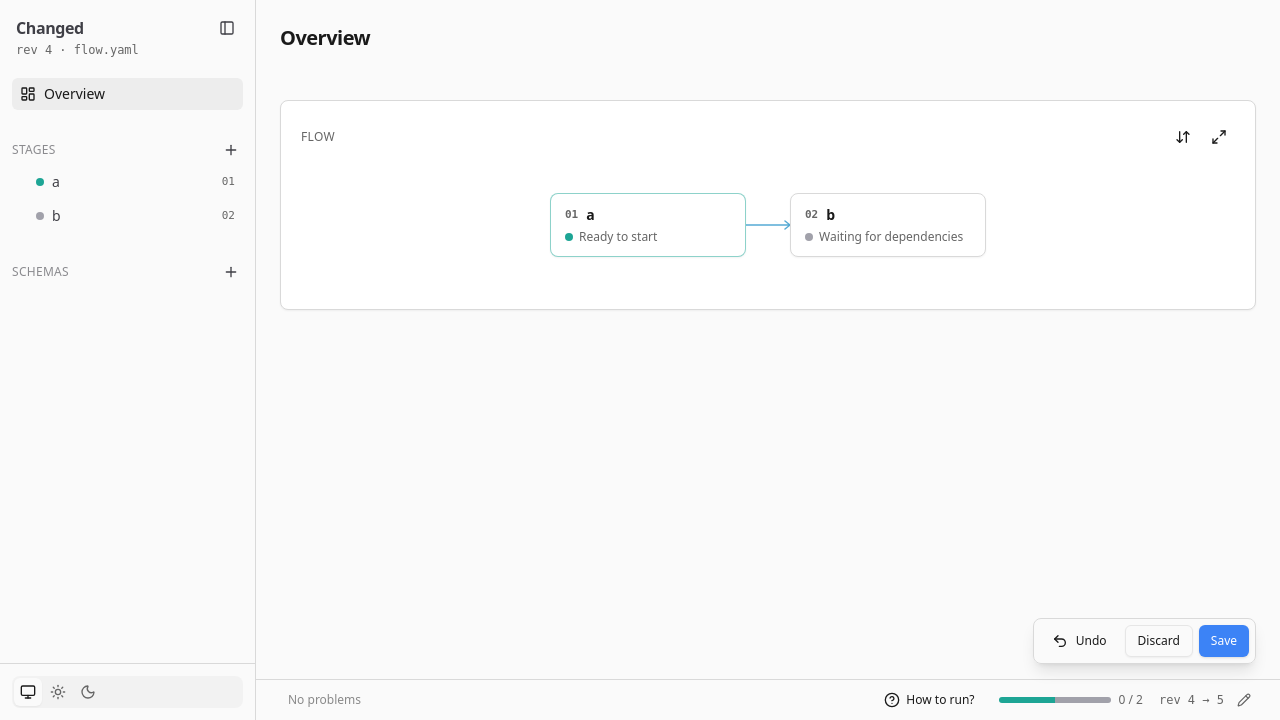
save bar › discard_needs_a_second_click_and_restores_the_baseline
Click the button "Discard" at (1159, 641), box [1125, 625, 1193, 657]
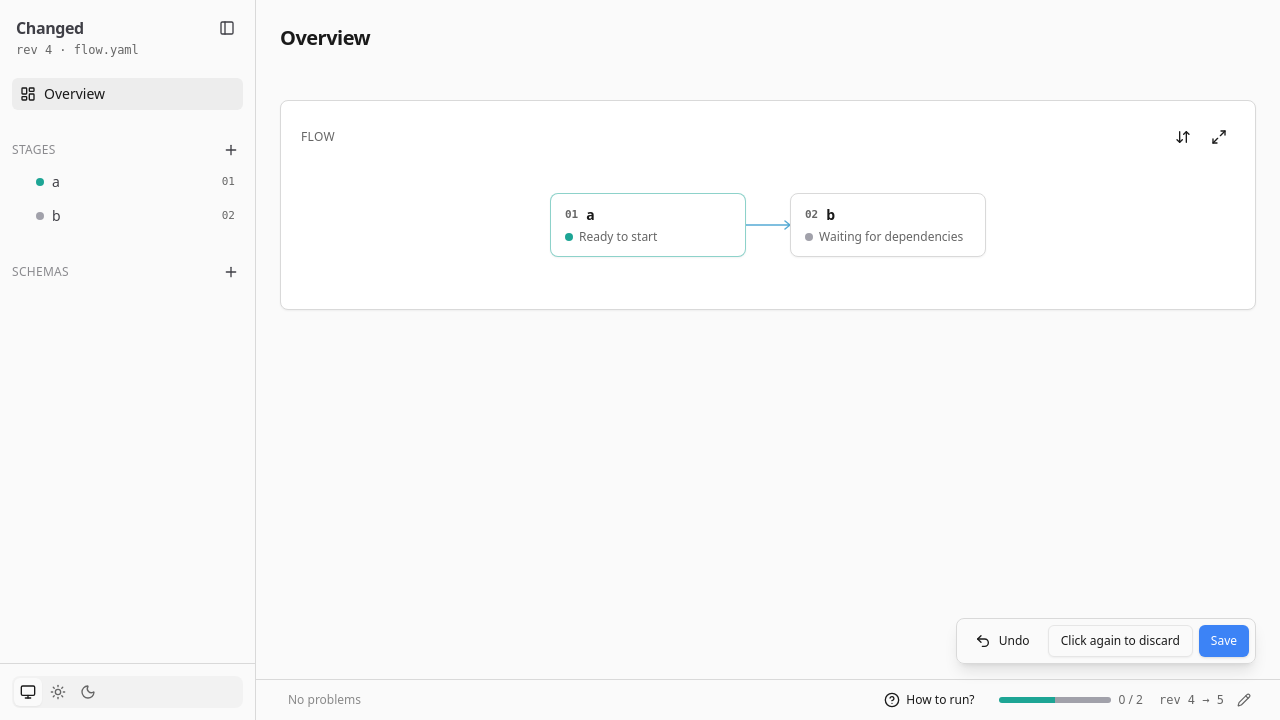
Expected: the button "Changed" is shown, [12, 16, 88, 40]
Click the button "Click again to discard" at (1120, 641), box [1048, 625, 1193, 657]
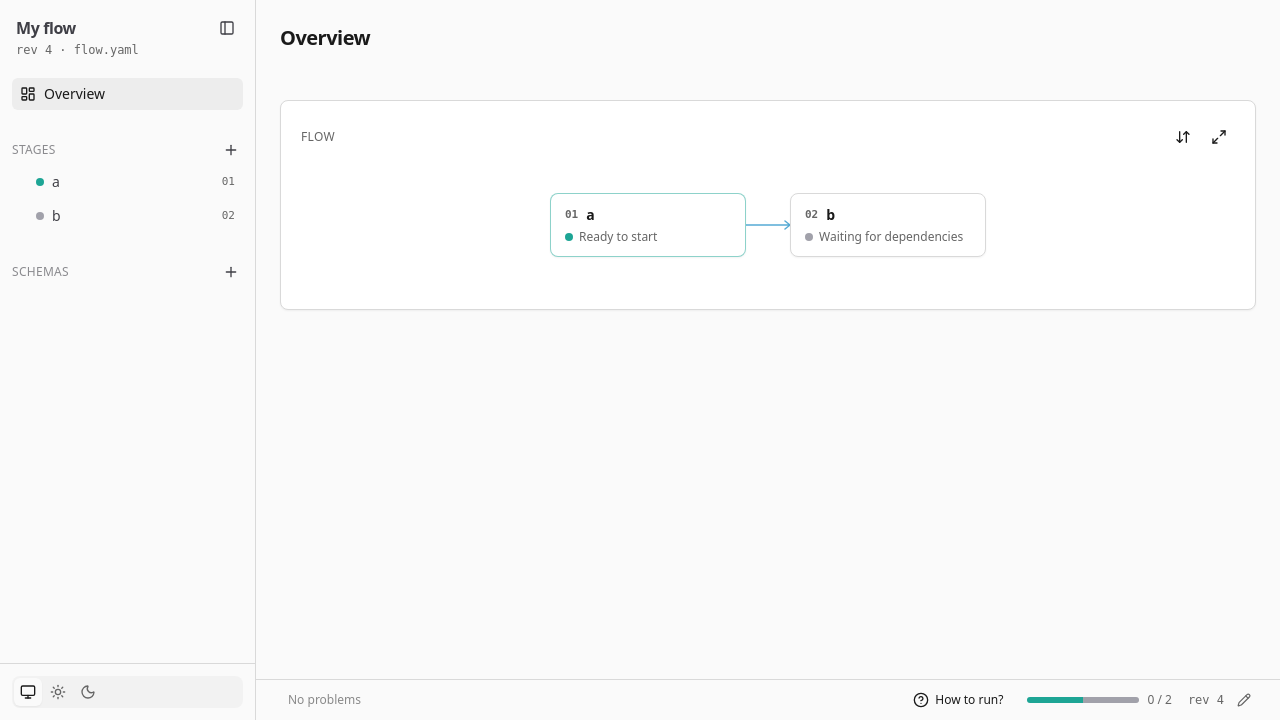
Expected: the button "My flow" is shown, [12, 16, 80, 40]
Expected: the button "Save" is gone
